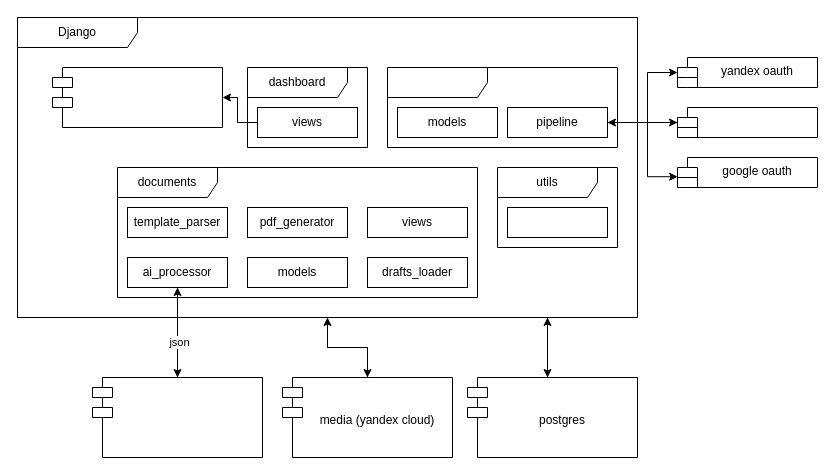
The diagram is 835 pixels wide and 475 high, and some of its shapes have lost their labels. The shapes that lost their labels are listed below. From the top down, each one's centre as x and y in pixels, then its label:
At (137,97): "templates".
At (502,107): "accounts".
At (747,122): "github oauth".
At (557,222): "email".
At (177,417): "AI API".
